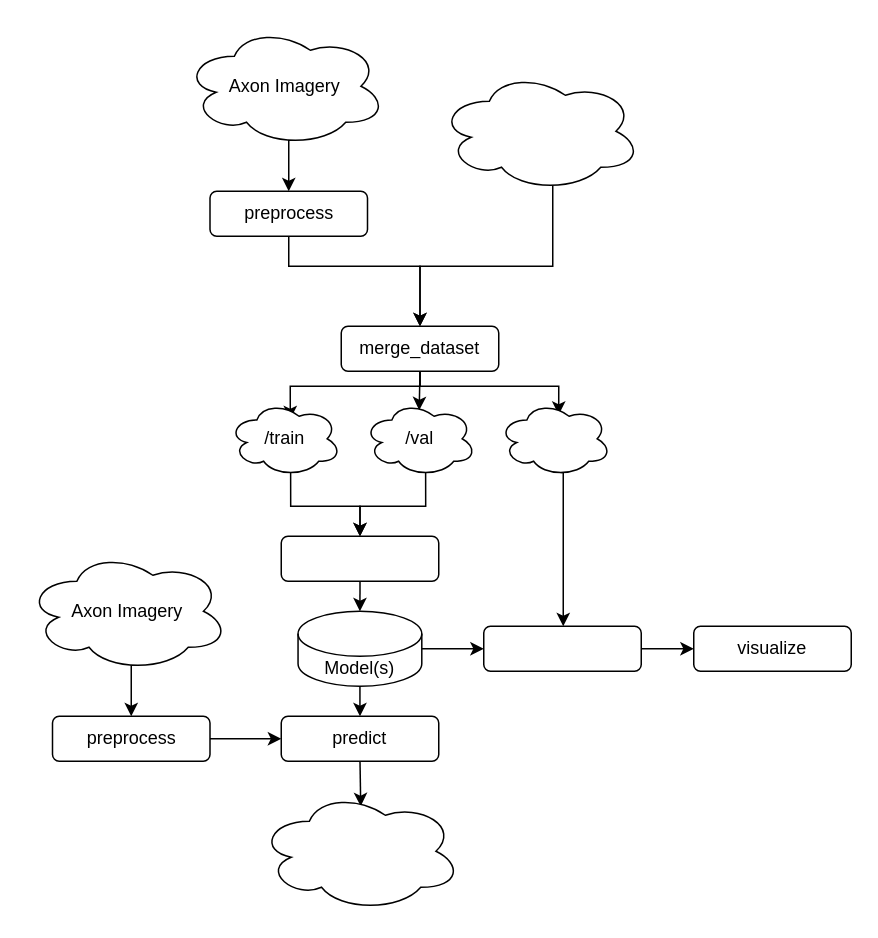
The diagram is 878 pixels wide and 938 high, and some of its shapes have lost their labels. Each missing label, with the centre of its shape:
"/test" belongs at (554,438).
"Annotations" belongs at (539,130).
"Predictions" belongs at (359,850).
"test" belongs at (561,648).
"train" belongs at (359,558).
